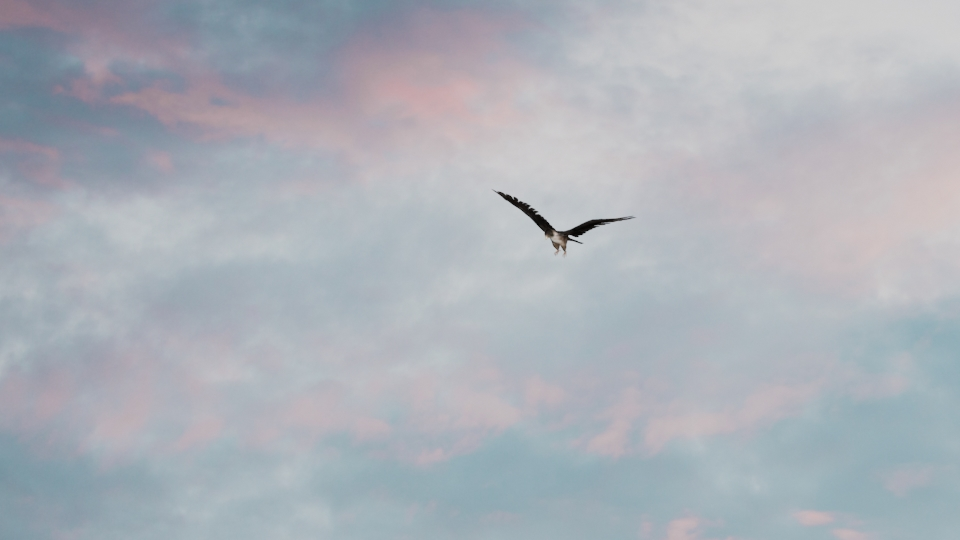bird: (492, 190, 632, 261)
